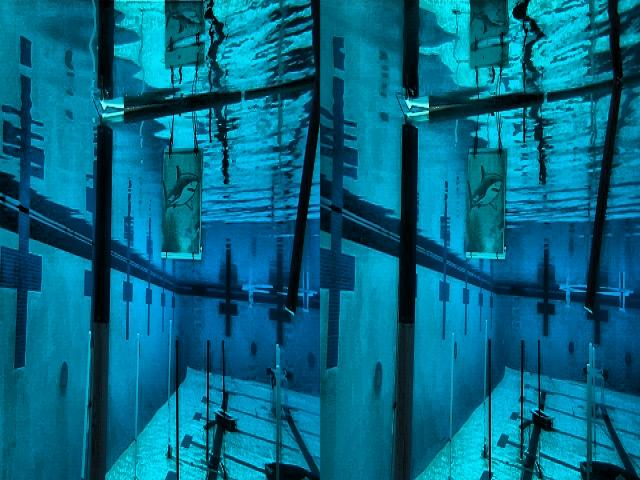gate: (393, 78, 640, 480), (91, 71, 319, 480)
octagon_table: (266, 368, 291, 422), (583, 364, 608, 418)
octagon_top: (241, 286, 317, 314), (560, 286, 632, 312)
path_marker: (203, 420, 220, 473), (524, 418, 534, 471)
shark: (468, 153, 507, 252), (164, 151, 202, 252)
